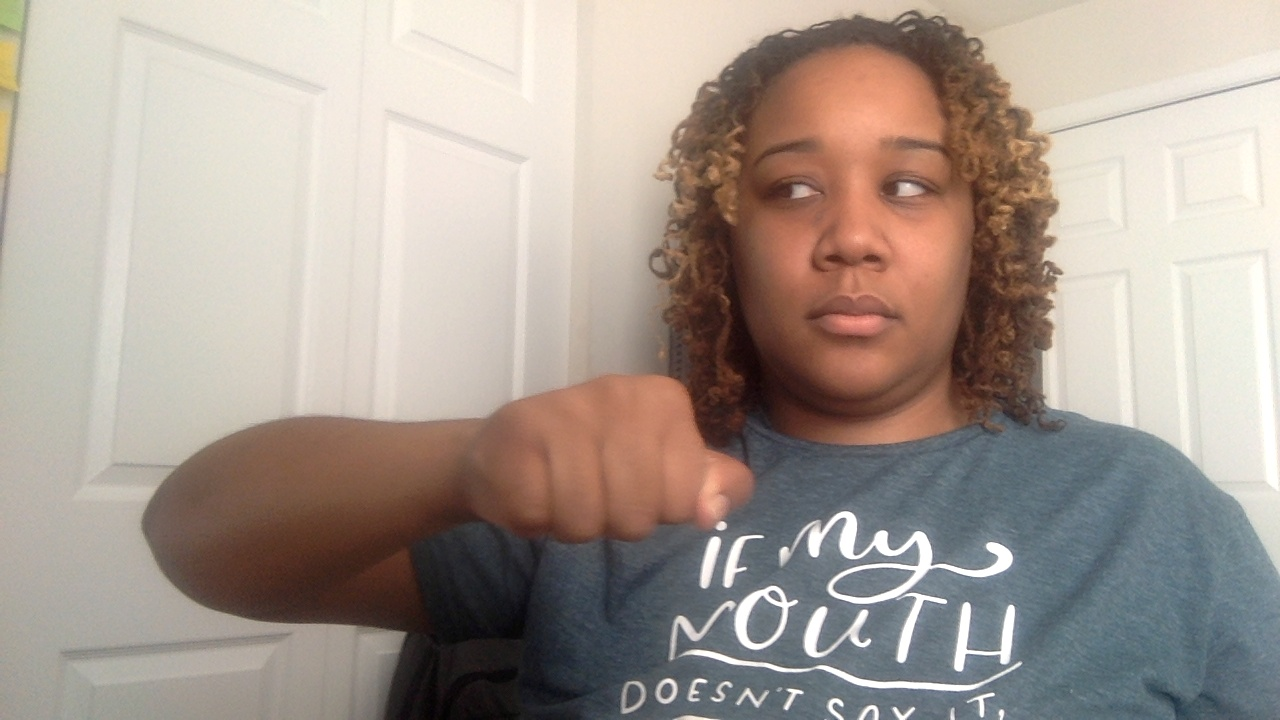yes: (447, 364, 776, 570)
